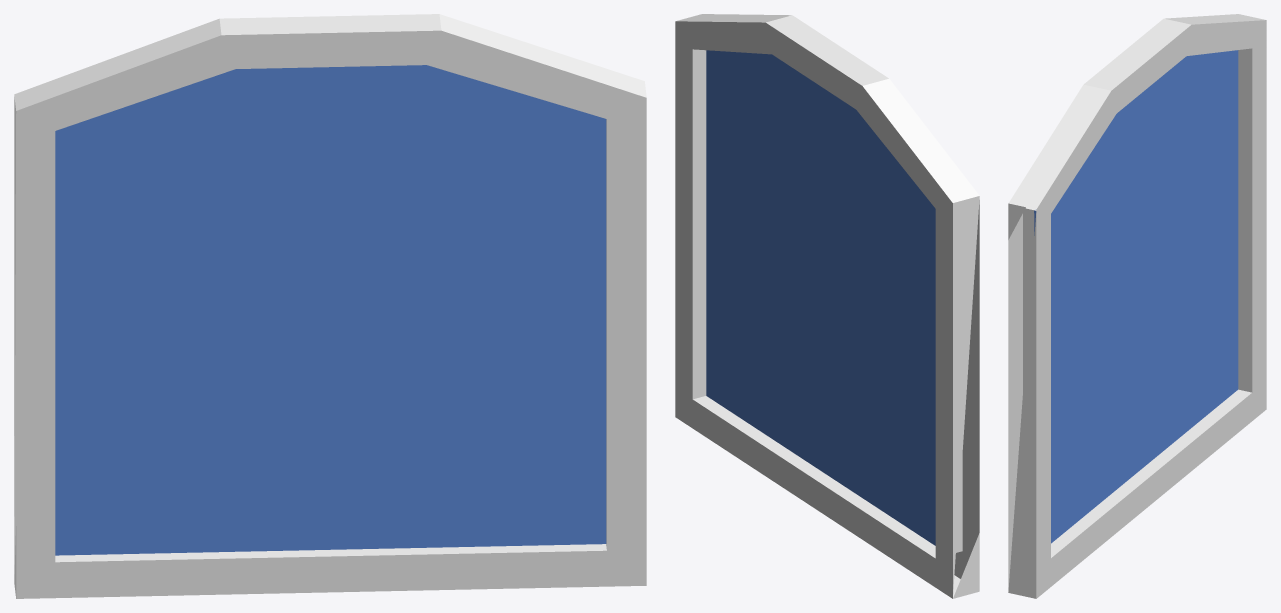
Rendered from okna.dae.
3 views of the same model, side by side, from view 1: azimuth 30°, elevation 25°; view 2: azimuth 150°, elevation 25°; view 3: azimuth 270°, elevation 25° (orthographic). The views are drawn at different scales.
Visible parts, largest first — view 1: SketchUp (×2); view 2: SketchUp (×3); view 3: SketchUp (×3).
Part boxes in pixels (x1,y1,x2,y2): SketchUp (×2): (14, 14, 646, 598); SketchUp (×3): (675, 14, 979, 598); SketchUp (×3): (1008, 14, 1266, 598).
Size of the model in its own units: 28.92 by 16.13 by 30.79.
